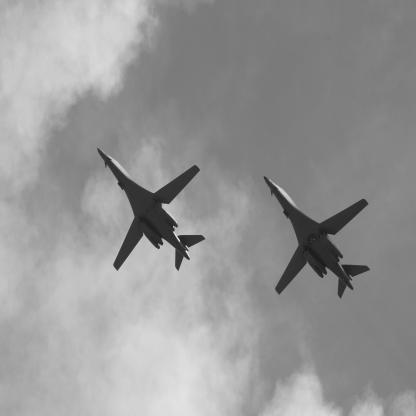B1: (98, 149, 207, 272), (265, 177, 372, 300)
